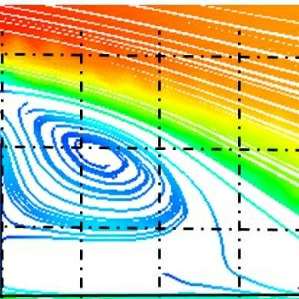vortox: (19, 109, 166, 212)
